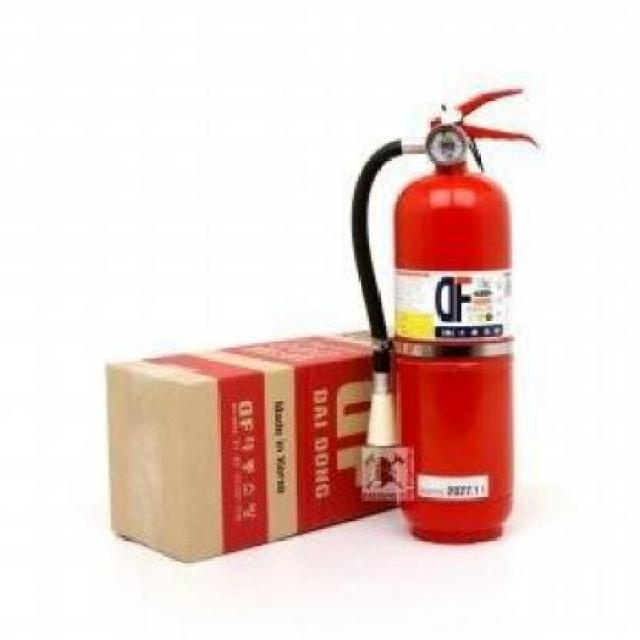fire extinguisher: (349, 87, 540, 544)
